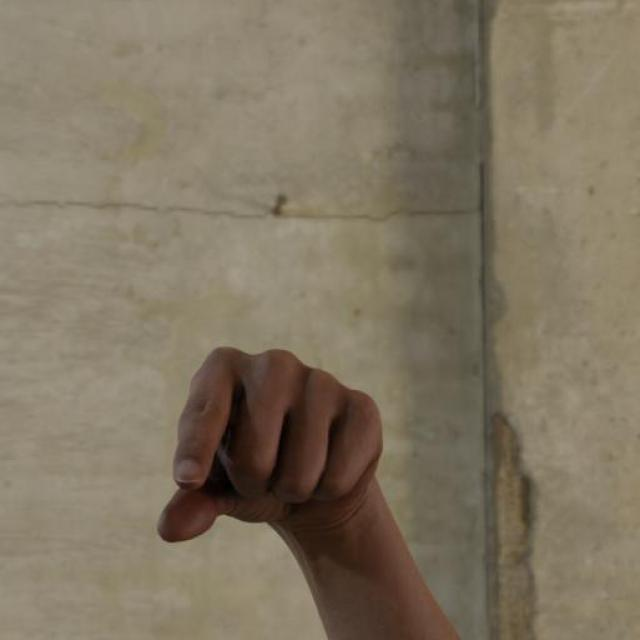Q: (153, 340, 388, 546)
